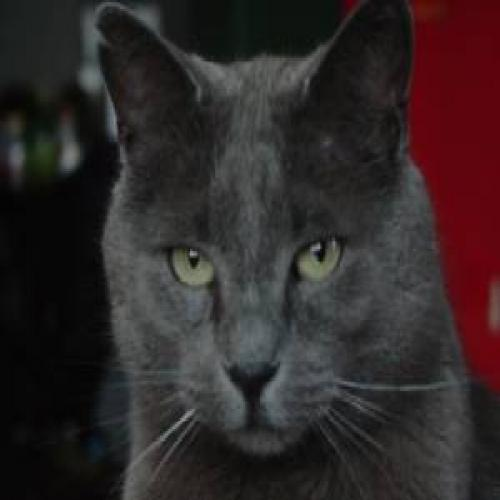rblue: (79, 1, 441, 459)
